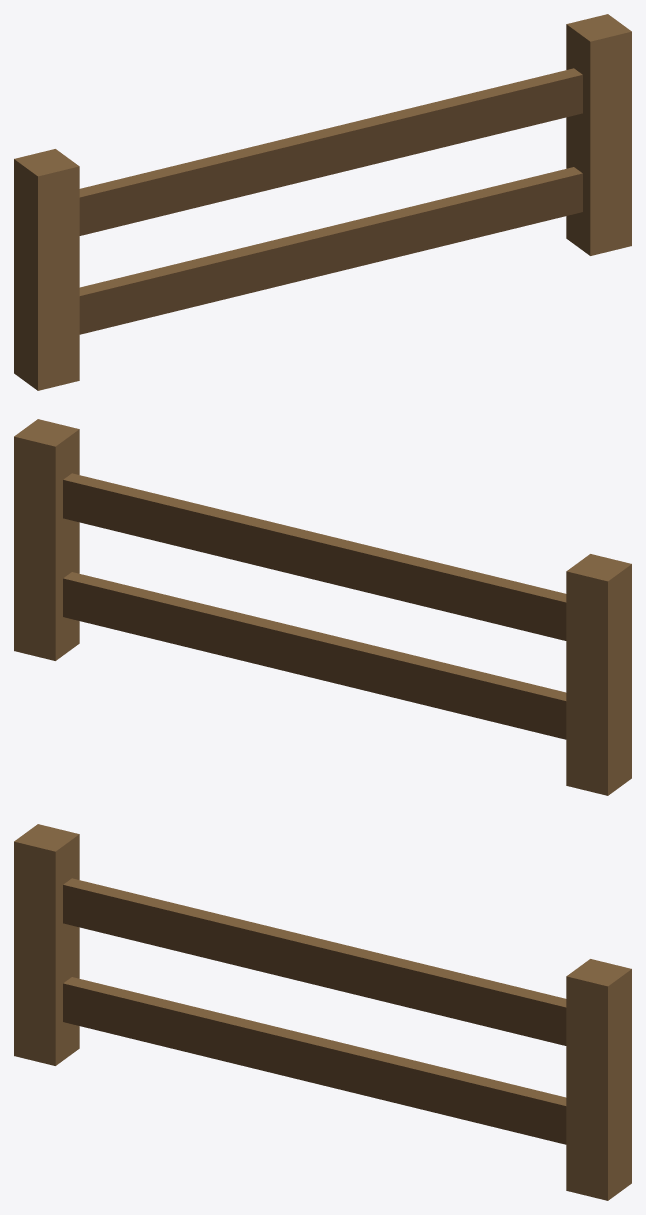
The model's file is cloture.glb.
The picture shows the model from 3 angles, top to bottom: view 1: azimuth 30°, elevation 25°; view 2: azimuth 150°, elevation 25°; view 3: azimuth 330°, elevation 25°; orthographic projection.
Parts seen in each view (by area): view 1: fence_simple; view 2: fence_simple; view 3: fence_simple.
Part boxes in pixels (x1,y1,x2,y2): fence_simple: (14, 14, 631, 390); fence_simple: (14, 419, 631, 795); fence_simple: (14, 824, 631, 1200).
Bounding box in the file's own units: 2.2 × 0.759 × 0.1539.
